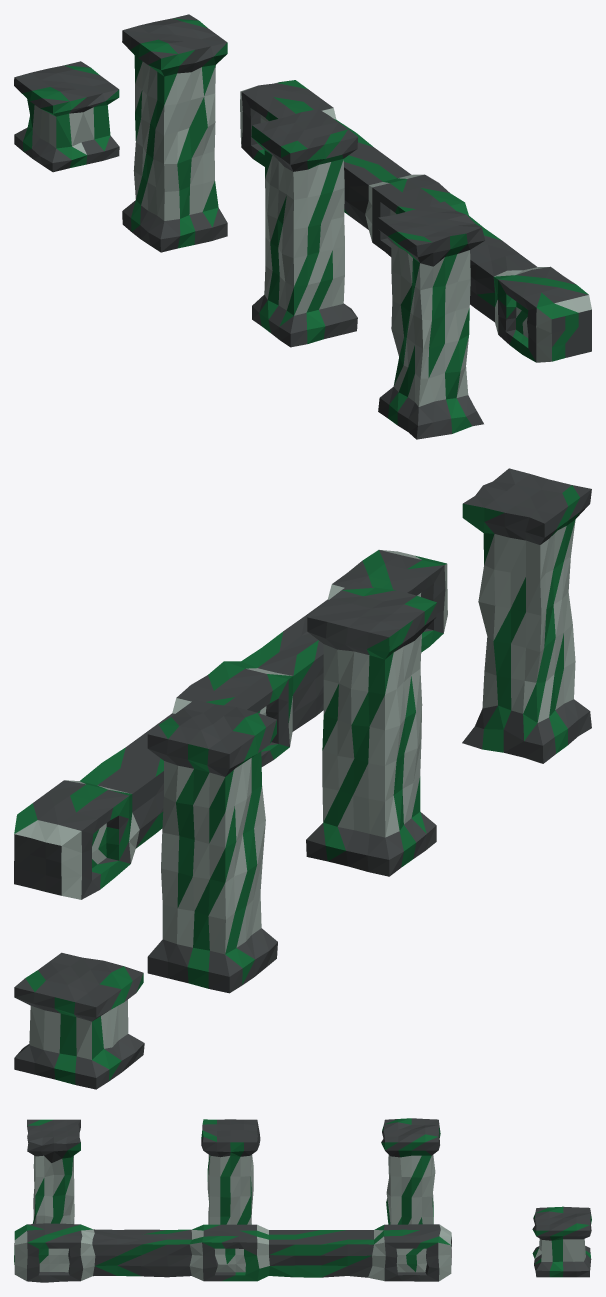
Rendered from buildingsSculpted.fbx.
The picture shows the model from 3 angles, top to bottom: view 1: azimuth 30°, elevation 25°; view 2: azimuth 150°, elevation 25°; view 3: azimuth 270°, elevation 25°; orthographic projection. The views are drawn at different scales.
Parts seen in each view (by area): view 1: Cube.007, Cube.009, Cube.006, Cube.008, Cube.001; view 2: Cube.007, Cube.009, Cube.006, Cube.008, Cube.001; view 3: Cube.007, Cube.009, Cube.006, Cube.008, Cube.001.
Part boxes in pixels (<box>): Cube.007: <box>240,80,591,362</box>; Cube.009: <box>122,14,227,252</box>; Cube.006: <box>251,109,357,347</box>; Cube.008: <box>378,201,485,439</box>; Cube.001: <box>14,61,119,172</box>; Cube.007: <box>14,549,447,899</box>; Cube.009: <box>147,699,277,993</box>; Cube.006: <box>306,581,436,876</box>; Cube.008: <box>462,468,591,763</box>; Cube.001: <box>14,952,144,1089</box>; Cube.007: <box>14,1223,451,1282</box>; Cube.009: <box>381,1118,440,1224</box>; Cube.006: <box>201,1119,260,1224</box>; Cube.008: <box>27,1119,80,1223</box>; Cube.001: <box>532,1206,591,1277</box>.
Bounding box in the file's own units: 536 × 577 × 2150.
